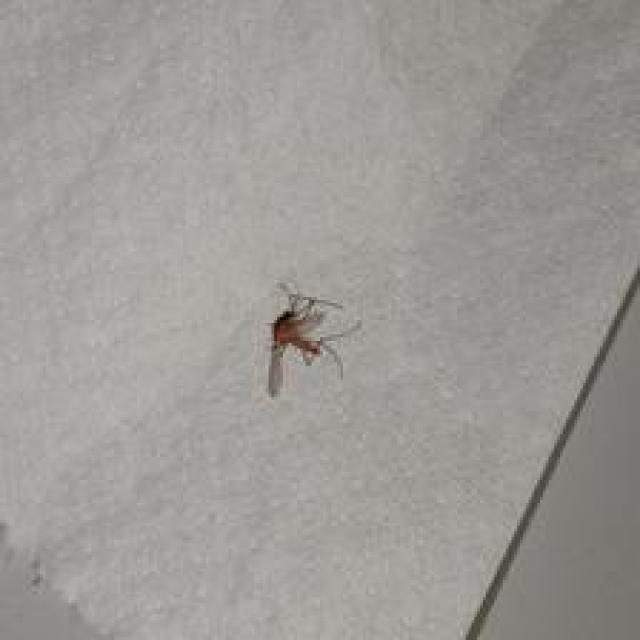Culex: (264, 287, 362, 399)
